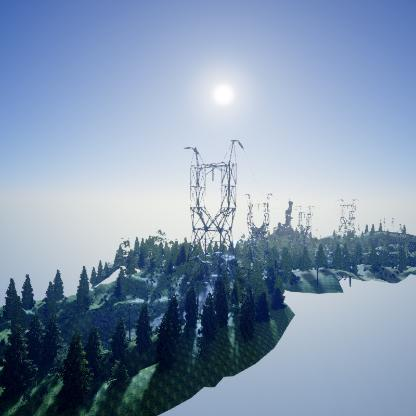tower: (180, 135, 246, 286), (243, 190, 274, 252)
